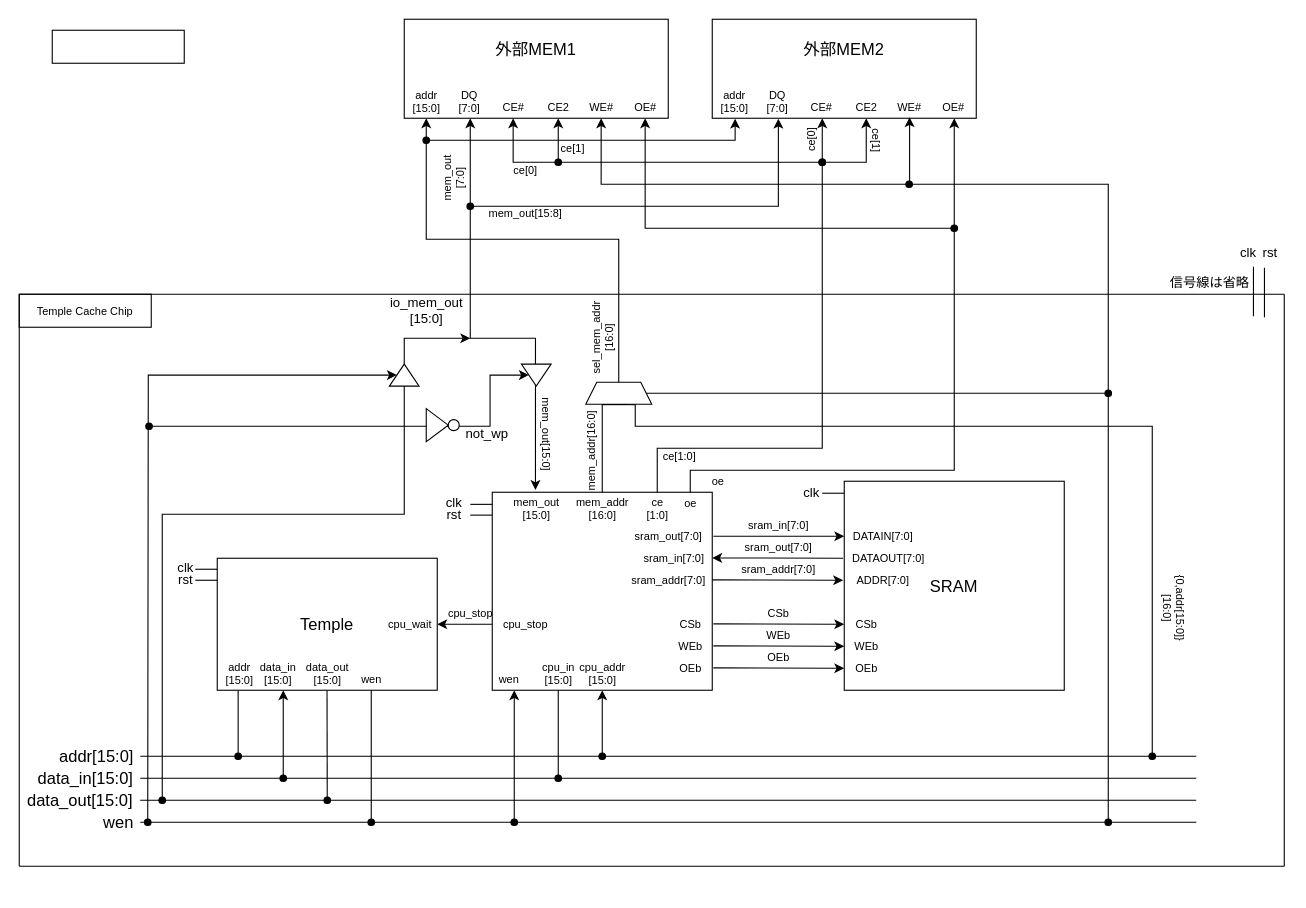
Image size: 1306x908. Some labels were removed from this diagram. The shapes that lost their labels are listed below. From the top down, each one's box as (x1, y1, x2, y2) in pixels, then its label:
(51, 29, 184, 63): チップ外部
(491, 491, 712, 690): Cache
